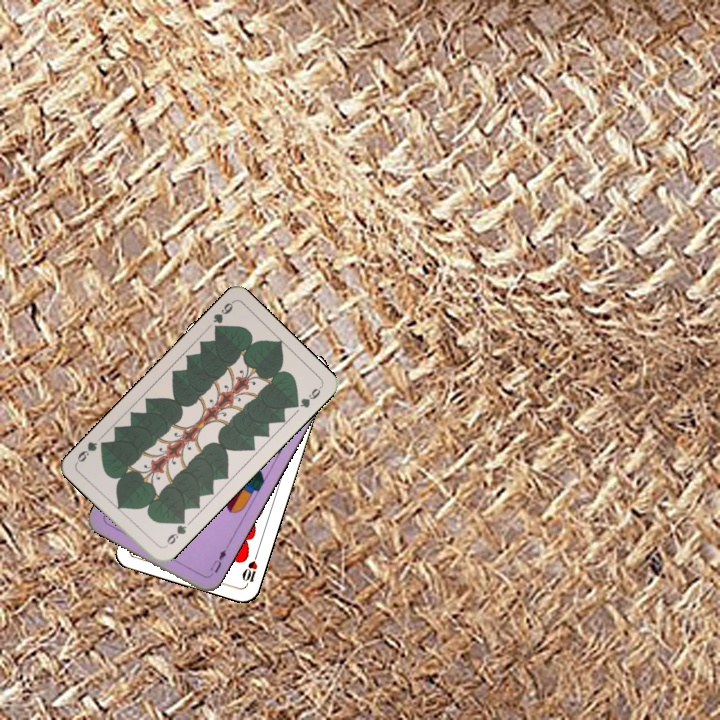EU: (206, 541, 230, 575)
G9: (160, 514, 189, 550), (209, 298, 236, 335)
H10: (238, 549, 260, 589)
